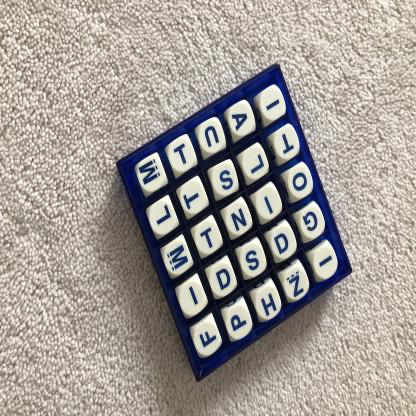a: (230, 104, 254, 137)
d: (209, 264, 236, 299), (272, 227, 297, 260)
f: (195, 322, 221, 357)
g: (301, 207, 325, 239)
h: (256, 287, 281, 321)
i: (179, 282, 206, 318), (257, 187, 283, 220), (261, 88, 286, 122), (314, 247, 338, 280)
l: (150, 201, 177, 237), (243, 147, 268, 181)
m: (165, 241, 193, 276), (139, 157, 166, 193)
n: (226, 202, 253, 236)
o: (289, 166, 314, 199)
p: (227, 307, 252, 340)
s: (241, 243, 267, 278), (213, 163, 238, 197)
t: (169, 139, 196, 173), (181, 181, 207, 215), (196, 221, 222, 255), (276, 127, 299, 161)
u: (199, 120, 226, 155)
z: (284, 267, 310, 301)
